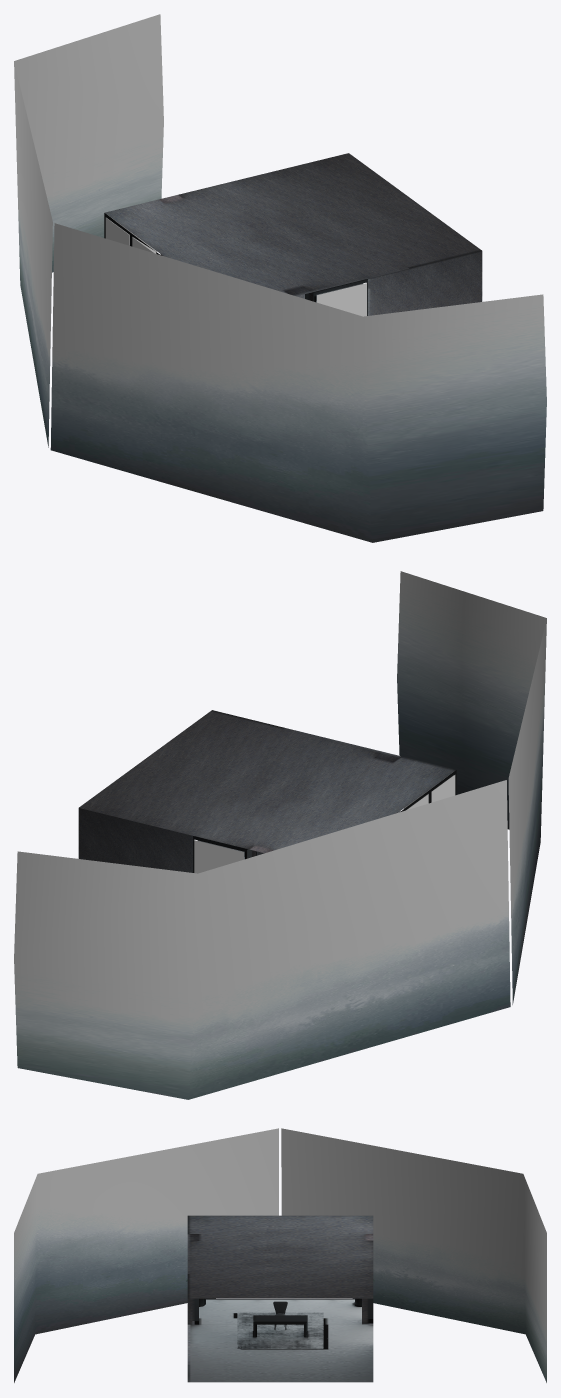
File: int_office.fbx
The picture shows the model from 3 angles, top to bottom: view 1: azimuth 30°, elevation 25°; view 2: azimuth 150°, elevation 25°; view 3: azimuth 270°, elevation 25°; orthographic projection. The views are drawn at different scales.
Parts seen in each view (by area): view 1: int_office; view 2: int_office; view 3: int_office.
Part boxes in pixels (x1,y1,x2,y2): int_office: [14, 14, 546, 542]; int_office: [14, 571, 546, 1099]; int_office: [14, 1128, 546, 1382].
Bounding box in the file's own units: 13.75 × 8.15 × 24.91.
2 materials, 2 textured.
